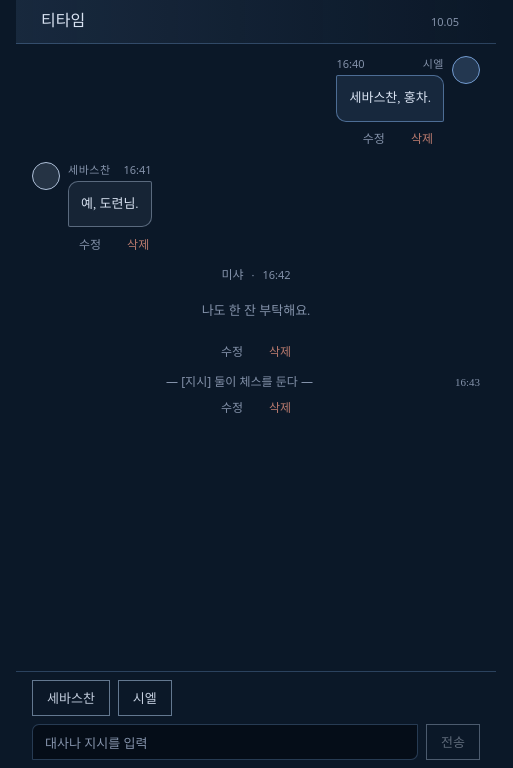
저장 실패 → AI 호출 0회 (R-CHAT-006 · R-CHAT-011) › TC-CH-101: 저장 실패 TOKEN_INVALID → 읽기 전용 전환(S2 규칙) · speak 0회 · 중립 DOM 없음
Check: the element named "대화 기록" is shown, box [32,56,480,423]
Type "안녕" into the text box named "메시지 입력". click: {"x": 225, "y": 742}
box: [32,724,418,760]
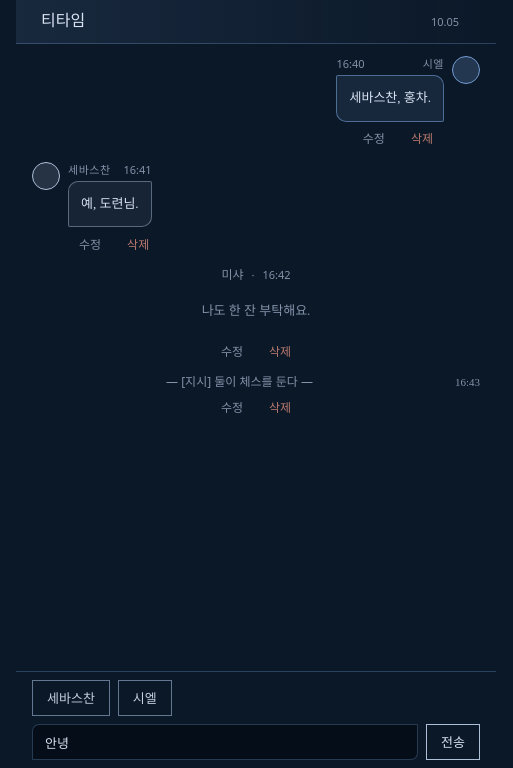
Click the button "전송". click: {"x": 453, "y": 742}
box: [426,724,480,760]
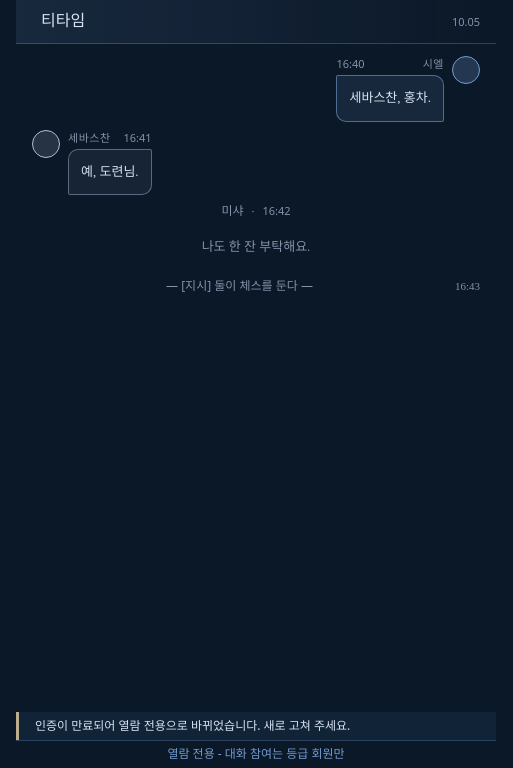
Check: the number of list items is 4, box [336,56,480,122]; [32,130,152,195]; [202,202,310,254]; [166,277,480,294]
Check: the text "열람 전용 - 대화 참여는 등급 회원만" is shown, box [16,740,496,767]
Check: the message reads "인증이 만료되어 열람 전용으로 바뀌었습니다. 새로 고쳐 주세요.", box [35,717,350,734]
